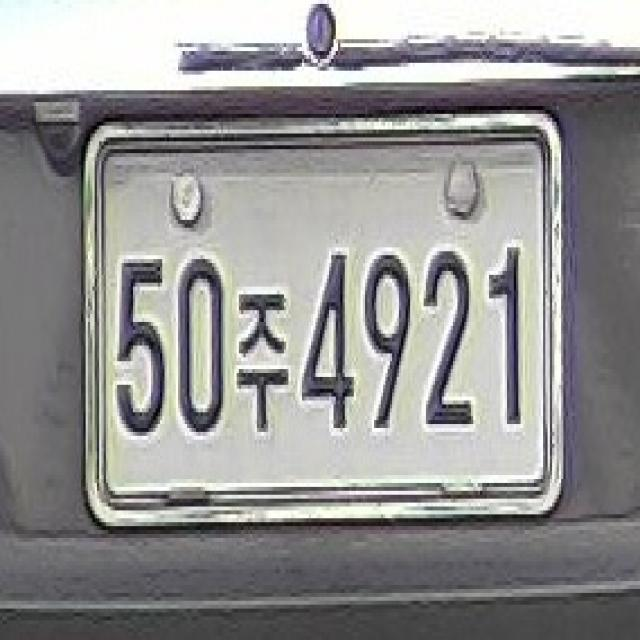0: (176, 244, 226, 456)
1: (488, 222, 530, 448)
2: (420, 225, 477, 438)
4: (303, 231, 357, 459)
5: (114, 253, 171, 461)
9: (364, 228, 414, 452)
ju: (234, 281, 293, 451)
license_plate: (75, 100, 577, 544)
